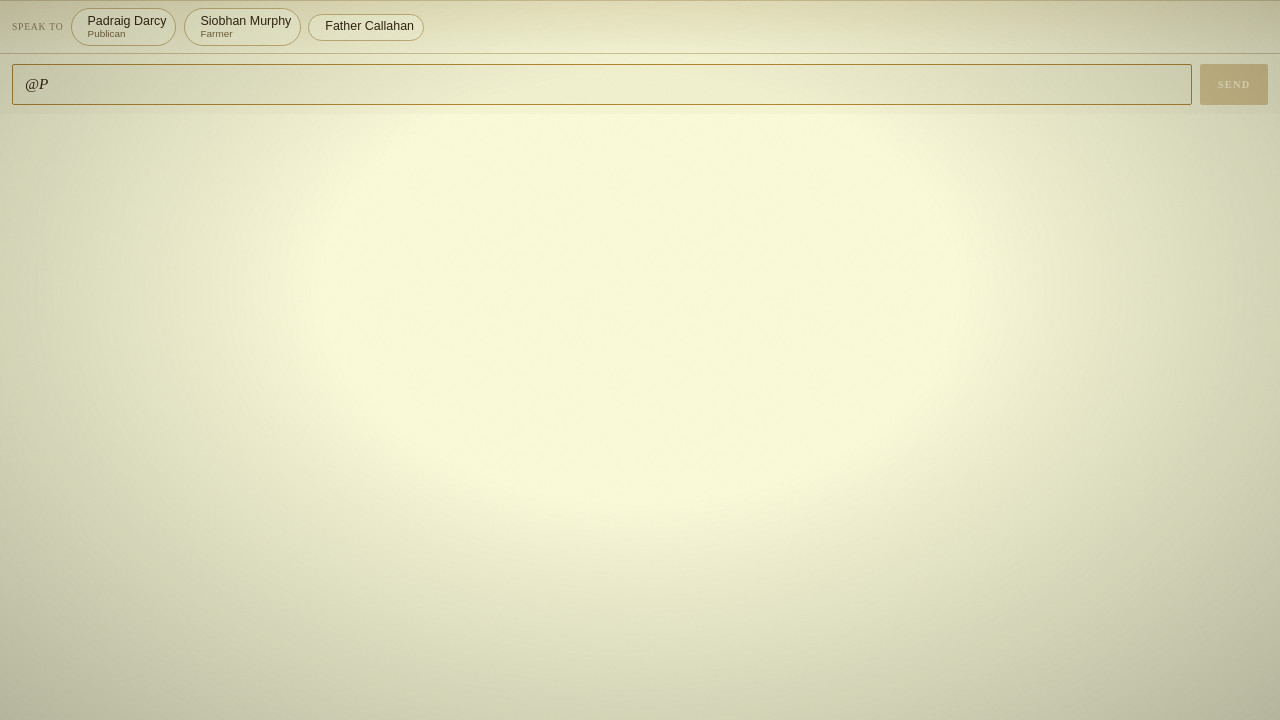
Test case: InputField › NPC mention autocomplete › inserts a mention chip with full name on selection
Clear the dropdown at (602, 84), box top-left (12, 64), bottom-right (1192, 105)
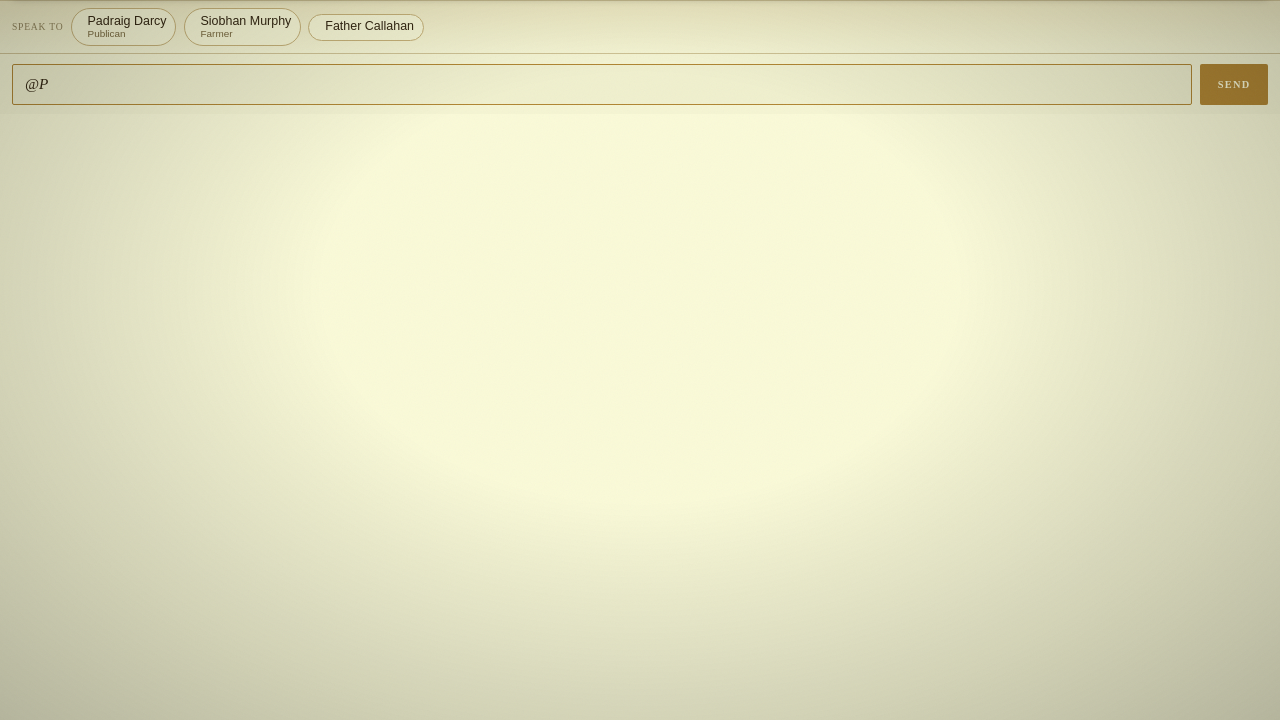
// Select via Enter
Press Enter in the dropdown, box top-left (12, 64), bottom-right (1192, 105)
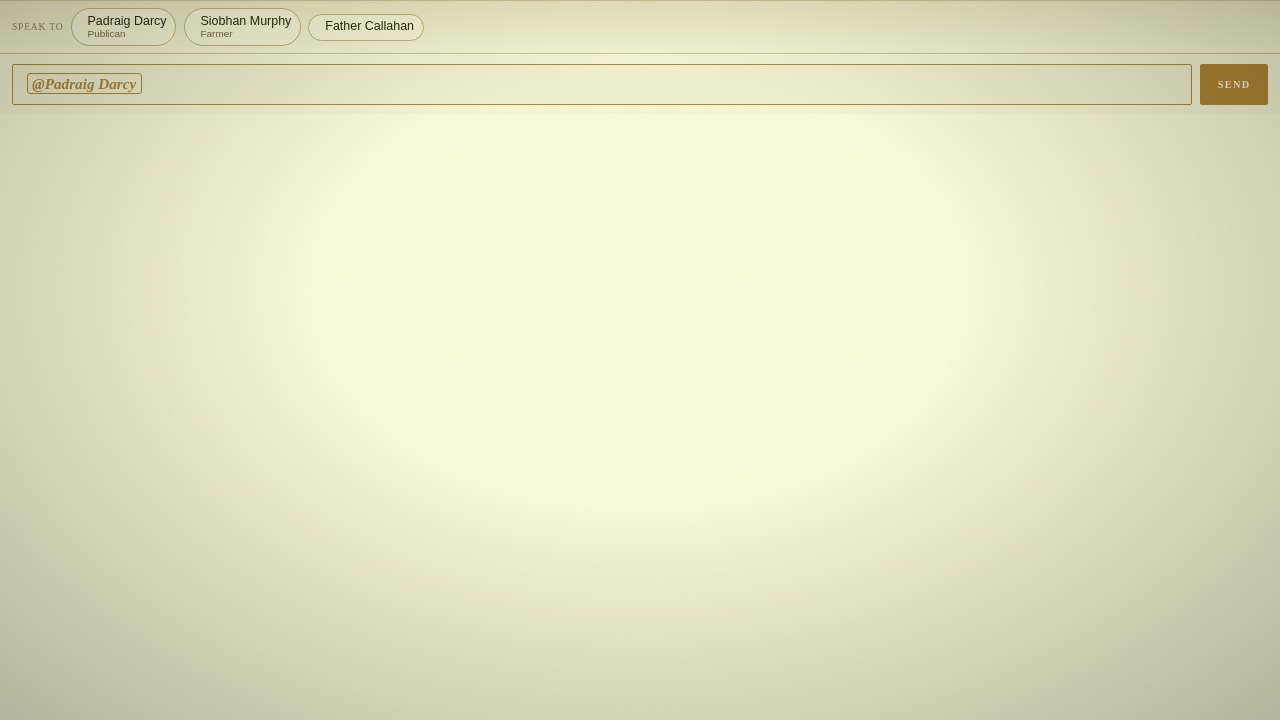
Expected: the picture with class "mention-chip" is shown, top-left (26, 73), bottom-right (142, 94)
Expected: the picture with class "mention-chip" reads "@Padraig Darcy", top-left (32, 75), bottom-right (136, 92)
